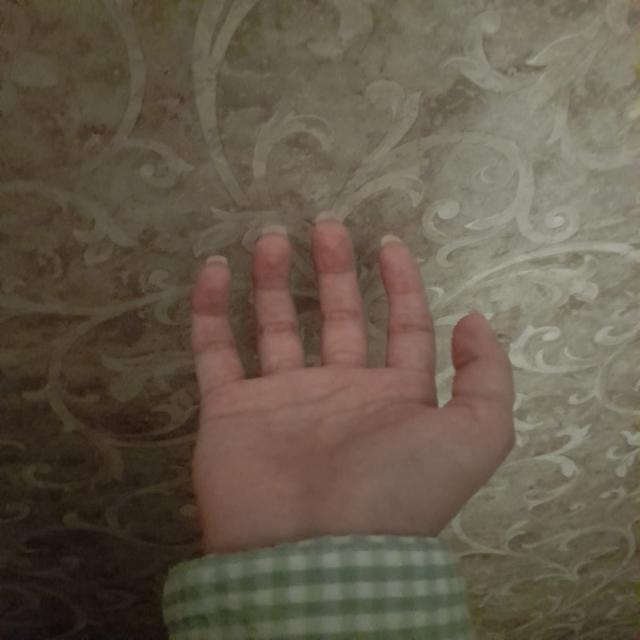Open Hand: (187, 223, 516, 542)
